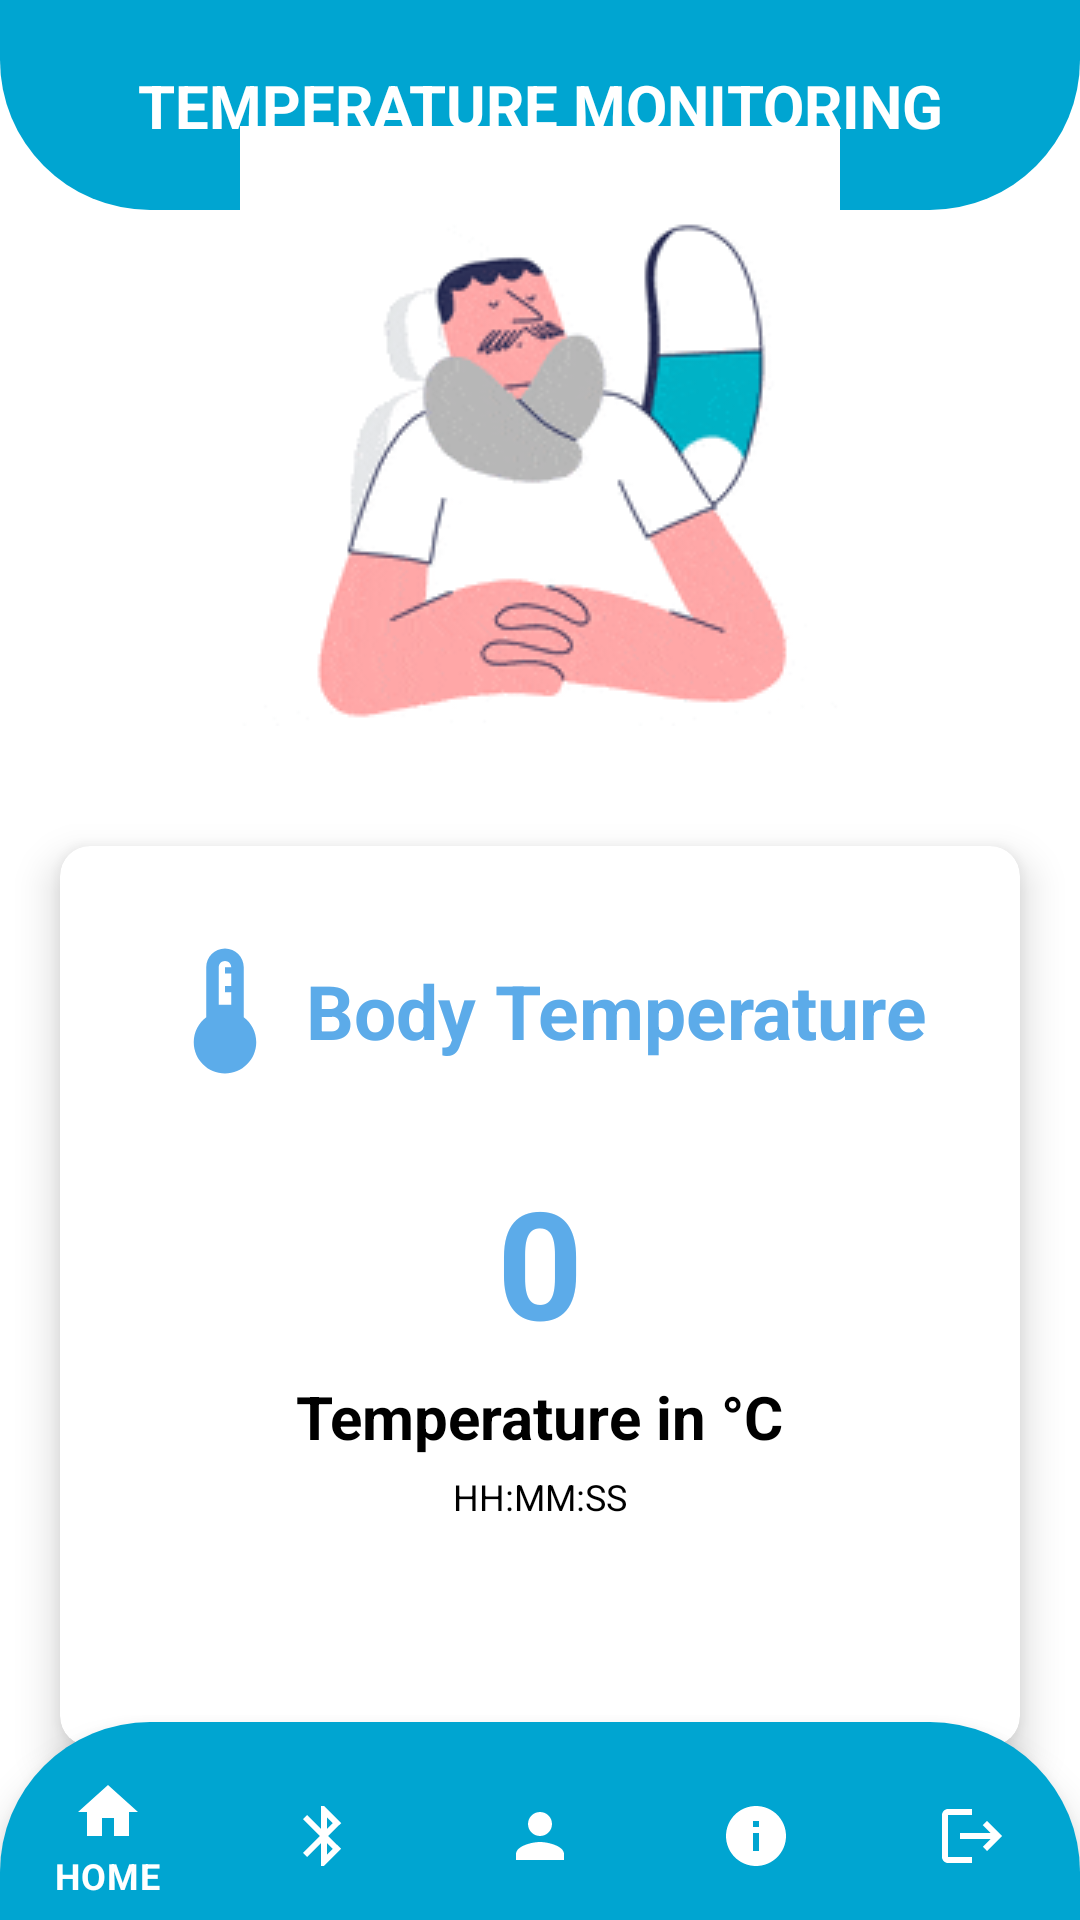

Point at icon controls on the screen. Image size 1080×1920, points as [x,y].
device thermostat: [225,1011]
